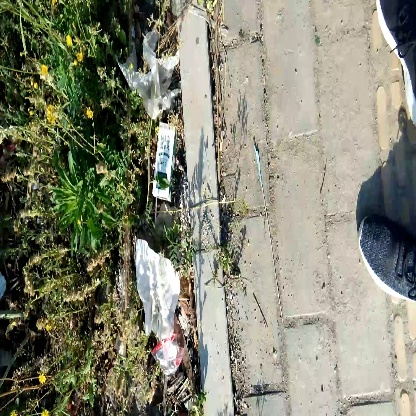milk-box: (146, 119, 182, 205)
plastic-bag: (126, 239, 191, 365), (125, 35, 181, 116)
